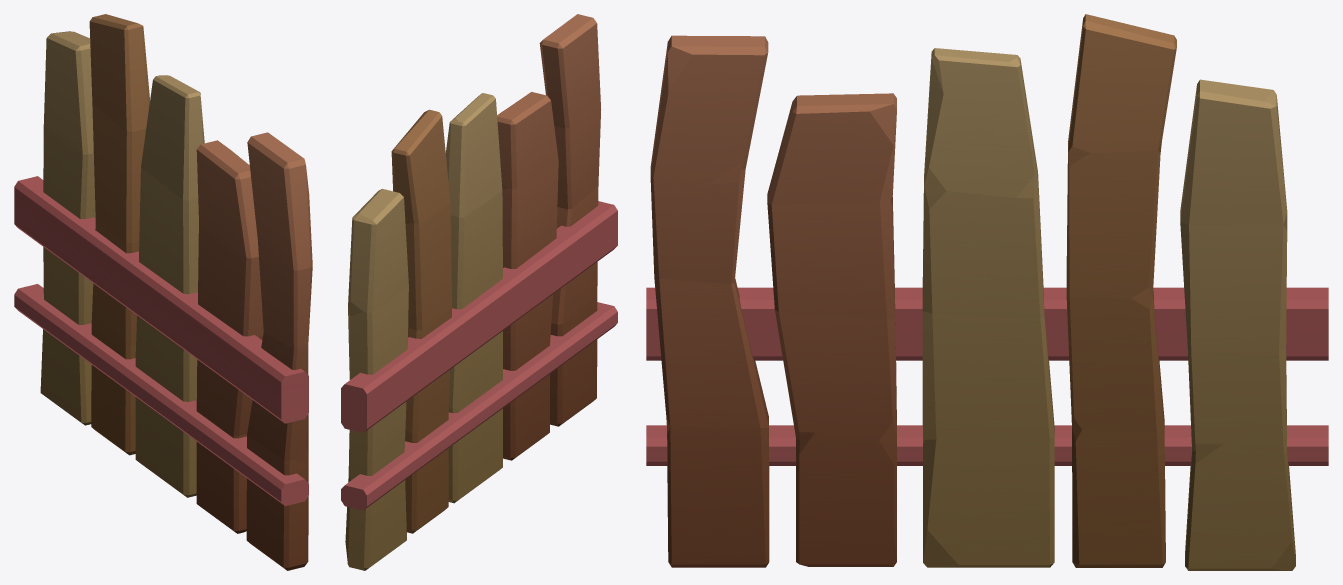
Rendered from pagar3.fbx.
3 renders of one model, left to right at view 1: azimuth 30°, elevation 25°; view 2: azimuth 150°, elevation 25°; view 3: azimuth 270°, elevation 25°, orthographic. The views are drawn at different scales.
Visible parts, largest first — view 1: Pagar fix.003; view 2: Pagar fix.003; view 3: Pagar fix.003.
Boxes of the visible parts, left/top/right/bottom form: Pagar fix.003: left=14, top=14, right=312, bottom=570; Pagar fix.003: left=341, top=14, right=617, bottom=570; Pagar fix.003: left=646, top=14, right=1328, bottom=570.
Bounding box in the file's own units: 15.26 × 158 × 178.
1 material, 1 textured.
